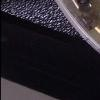black: (77, 12, 100, 32), (75, 0, 95, 8), (77, 6, 93, 15)
